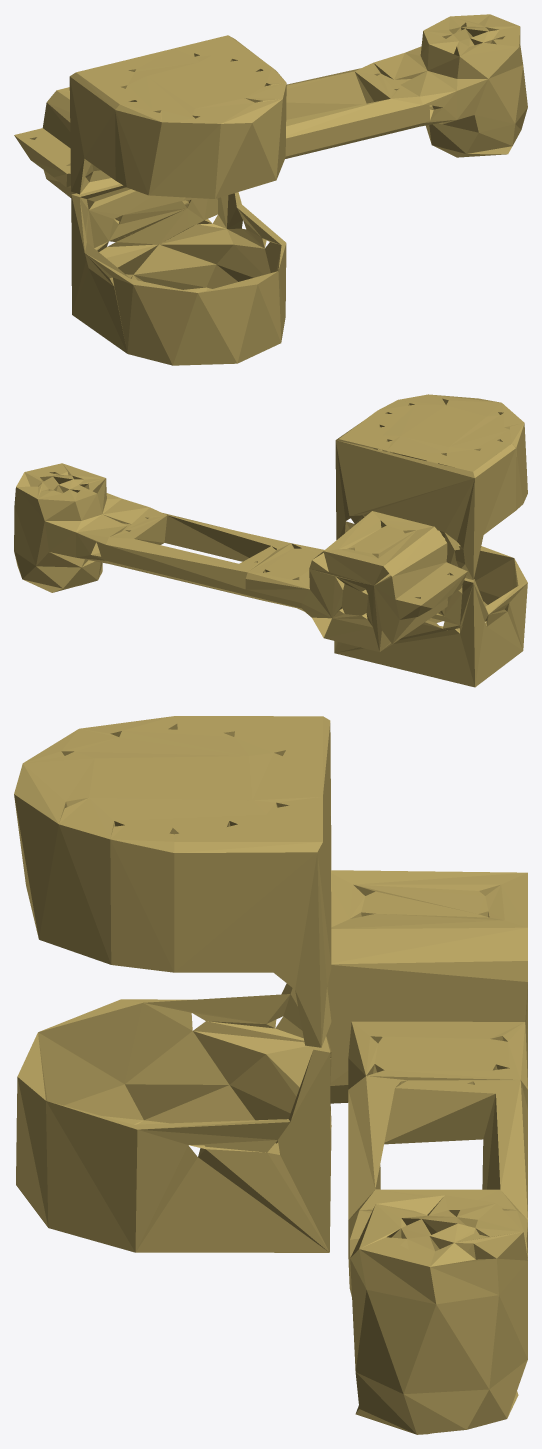
Rendered from neck_tilt.dae.
The picture shows the model from 3 angles, top to bottom: view 1: azimuth 30°, elevation 25°; view 2: azimuth 150°, elevation 25°; view 3: azimuth 270°, elevation 25°; orthographic projection. The views are drawn at different scales.
Parts seen in each view (by area): view 1: M2; view 2: M2; view 3: M2.
Boxes of the visible parts, box(x1,y1,x2,y2) form: M2: box(14, 14, 527, 365); M2: box(14, 394, 527, 687); M2: box(14, 716, 527, 1434).
Bounding box in the file's own units: 0.1681 × 0.0916 × 0.0812.
